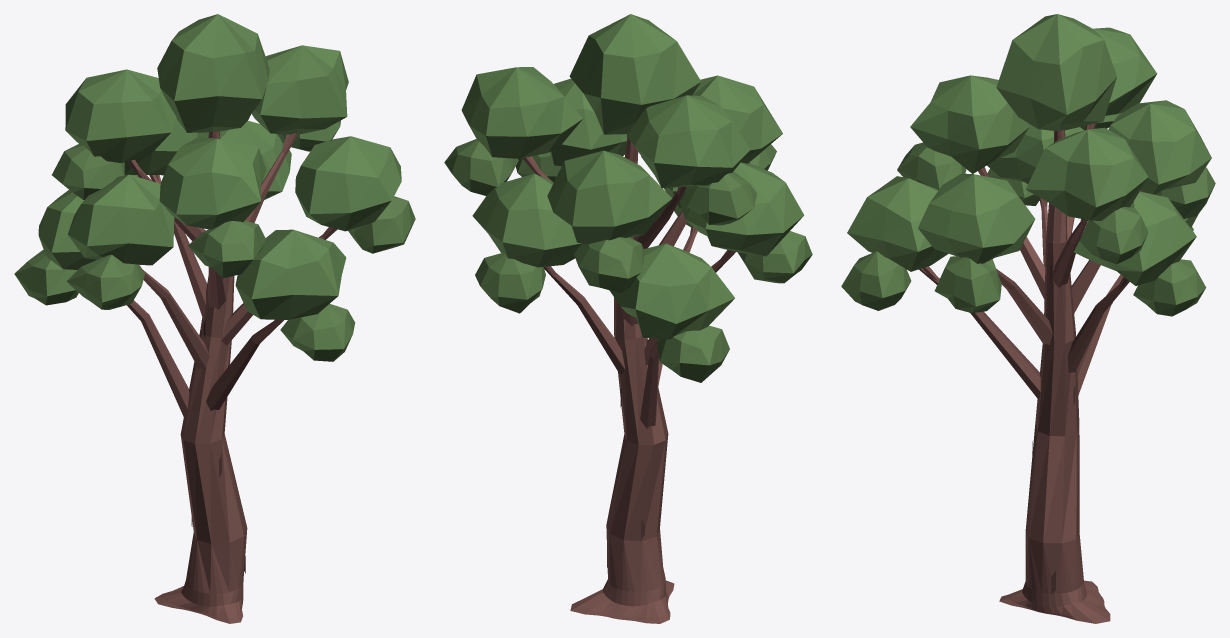
File: cherry_wild_young.glb
3 renders of one model, left to right at view 1: azimuth 30°, elevation 25°; view 2: azimuth 150°, elevation 25°; view 3: azimuth 270°, elevation 25°, orthographic.
Parts seen in each view (by area): view 1: leaves, branches; view 2: leaves, branches; view 3: leaves, branches.
Part boxes in pixels (x1=…): leaves: x1=14, y1=14, x2=415, y2=361; branches: x1=127, y1=131, x2=337, y2=623; leaves: x1=444, y1=14, x2=812, y2=382; branches: x1=522, y1=134, x2=735, y2=623; leaves: x1=841, y1=14, x2=1215, y2=316; branches: x1=919, y1=123, x2=1146, y2=623.
Size of the model in its own units: 1.12 by 2 by 1.15.
